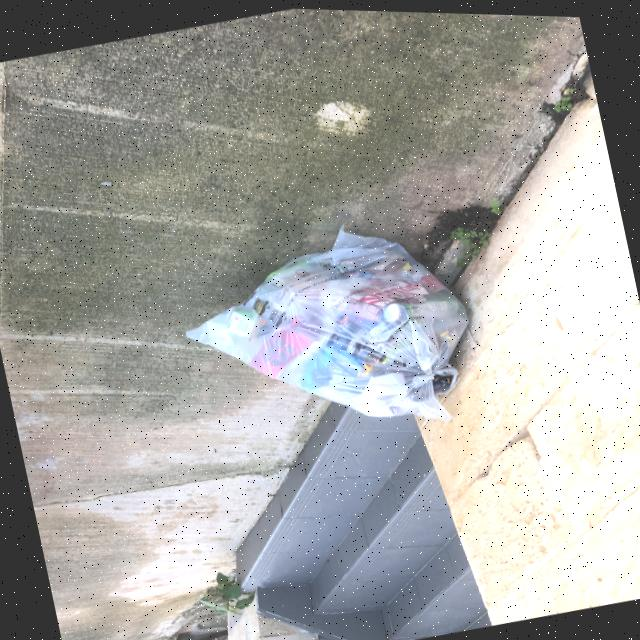Recycled Waste -Grey or Green Bag-: (169, 197, 488, 469)
